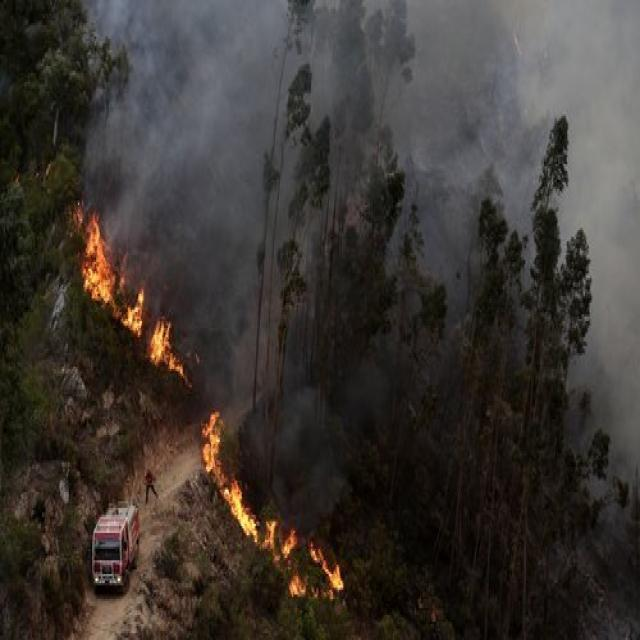Fire: (198, 417, 350, 607), (76, 203, 188, 394)
Smoke: (98, 4, 296, 240), (171, 236, 263, 395)
